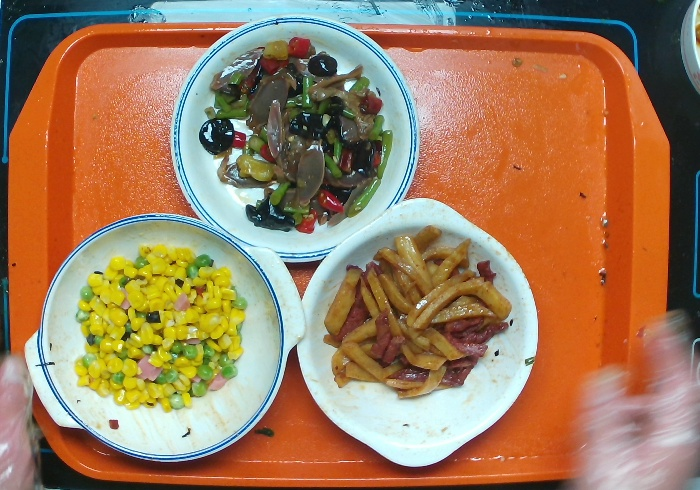HZYJPL-Dai_Er_Bai_Yuan_Wan: (294, 195, 542, 471)
HZYJPL-Lan_Bian_Dai_Er_Wan: (19, 210, 308, 467)
HZYJPL-Lan_Bian_Yuan_Die: (168, 12, 423, 266)
